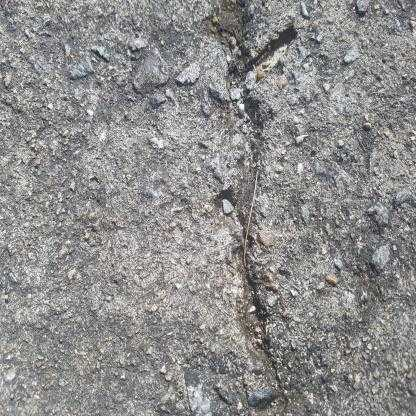crack: (232, 18, 301, 395)
